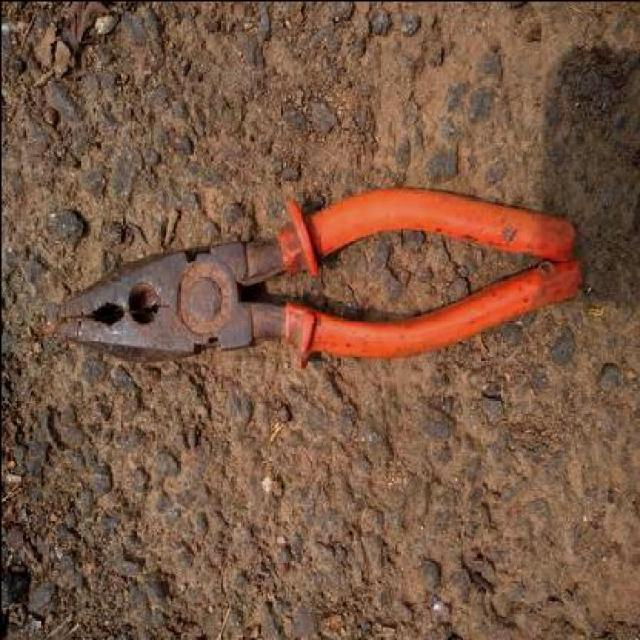pliers: (49, 189, 578, 365)
